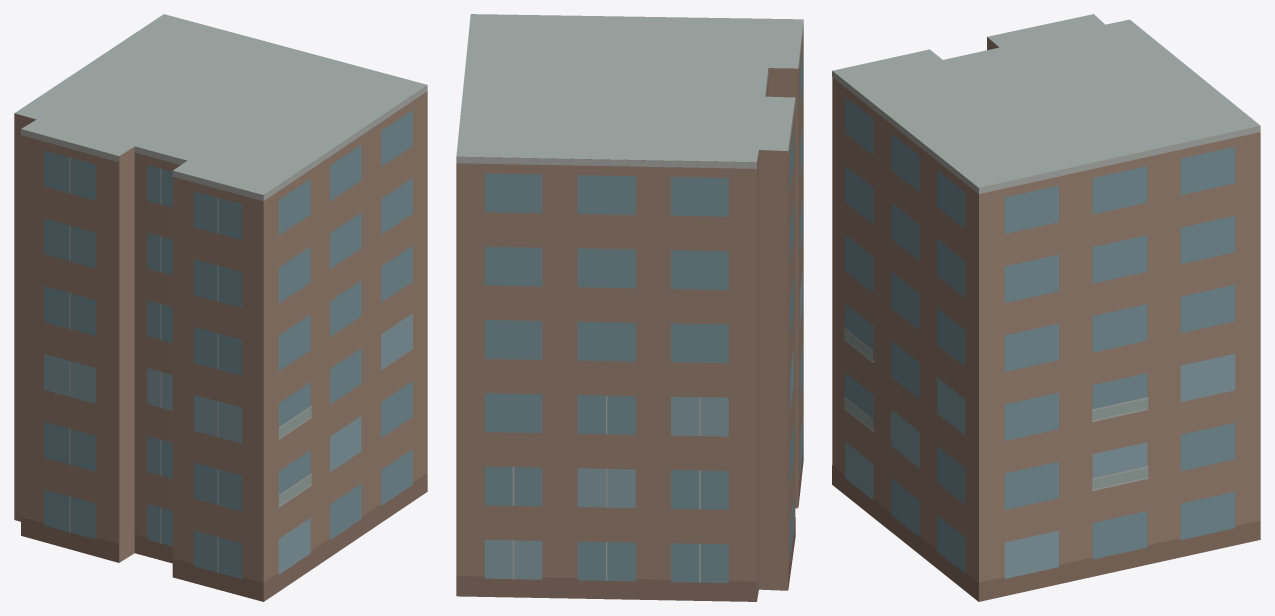
Rendered from survey-upis-33015761.glb.
The picture shows the model from 3 angles, left to right: view 1: azimuth 30°, elevation 25°; view 2: azimuth 150°, elevation 25°; view 3: azimuth 270°, elevation 25°; orthographic projection. The views are drawn at different scales.
Visible parts, largest first — view 1: survey-upis-33015761.tmp; view 2: survey-upis-33015761.tmp; view 3: survey-upis-33015761.tmp.
Part boxes in pixels (box(x1,y1,x2,y2)): survey-upis-33015761.tmp: box(14, 14, 427, 601); survey-upis-33015761.tmp: box(456, 14, 803, 601); survey-upis-33015761.tmp: box(832, 14, 1260, 601).
Bounding box in the file's own units: 14.47 × 16.05 × 15.06.
